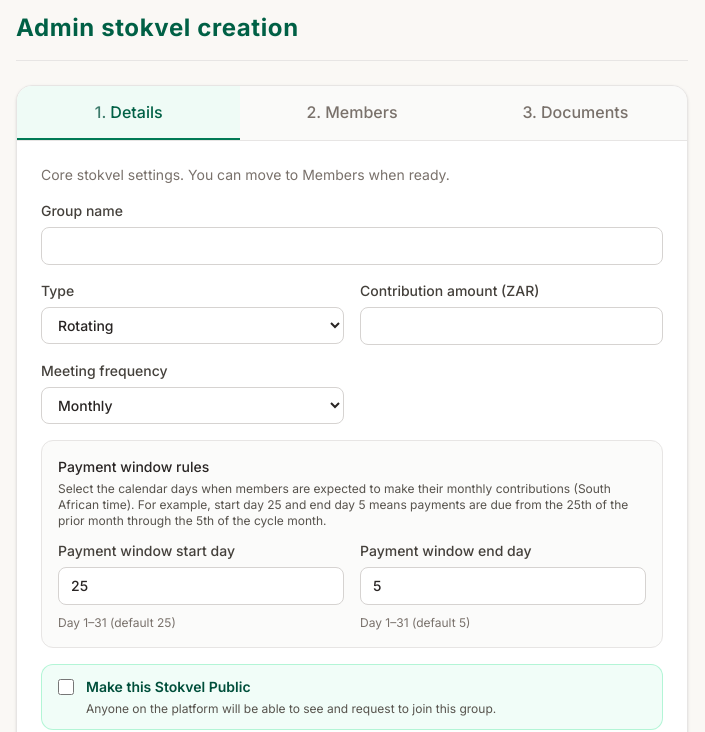
Test: CreateStokvelWizard › Fixed stokvel UI toggles › hides payout order controls and shows maturity copy for Fixed type
Select "Fixed (pool at maturity)" in the dropdown labelled "Type" at (192, 326), box 41,307 -> 344,344
(page scrolled)
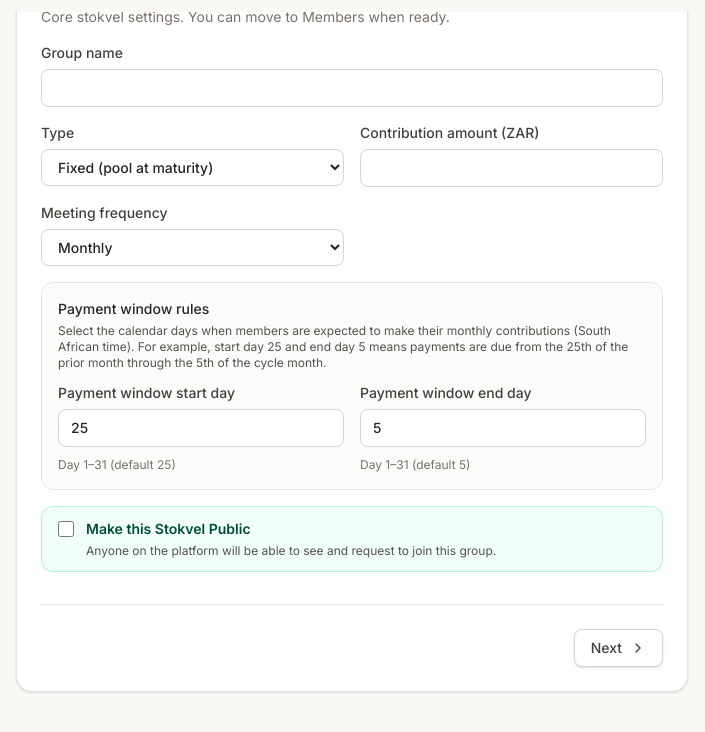
Click the button "Next" at (618, 648), box 574,629 -> 663,667
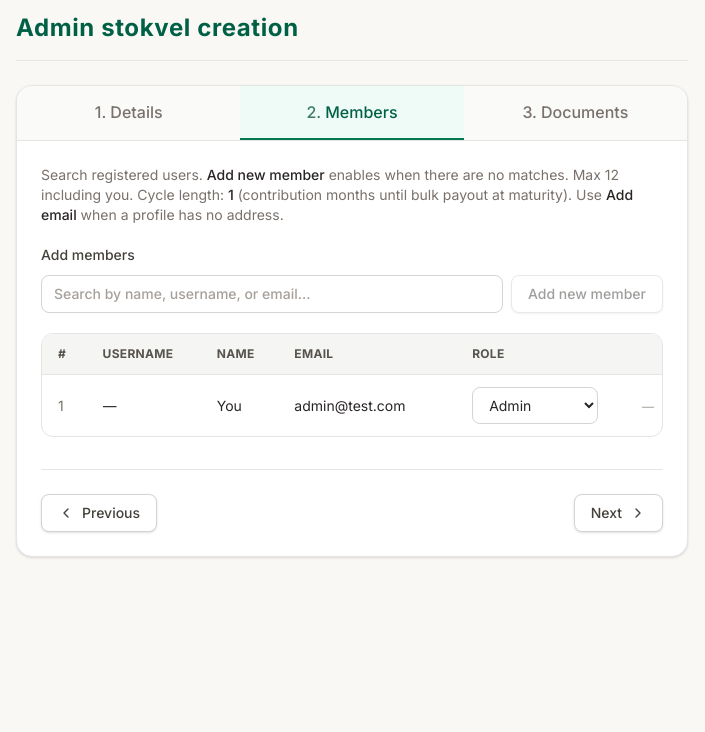
Result: the text "bulk payout at maturity" is shown at 234,186 -> 572,203
